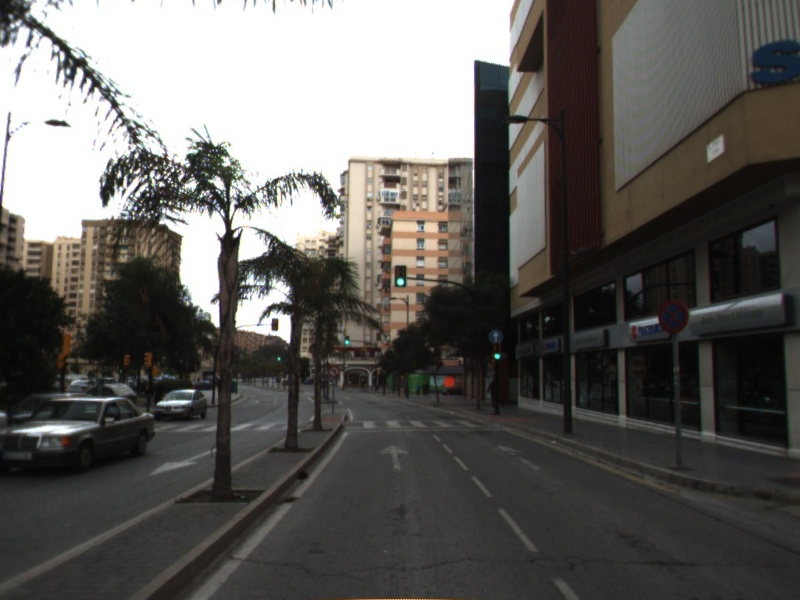STRAIGHT: (495, 442, 542, 471), (377, 442, 413, 473)
